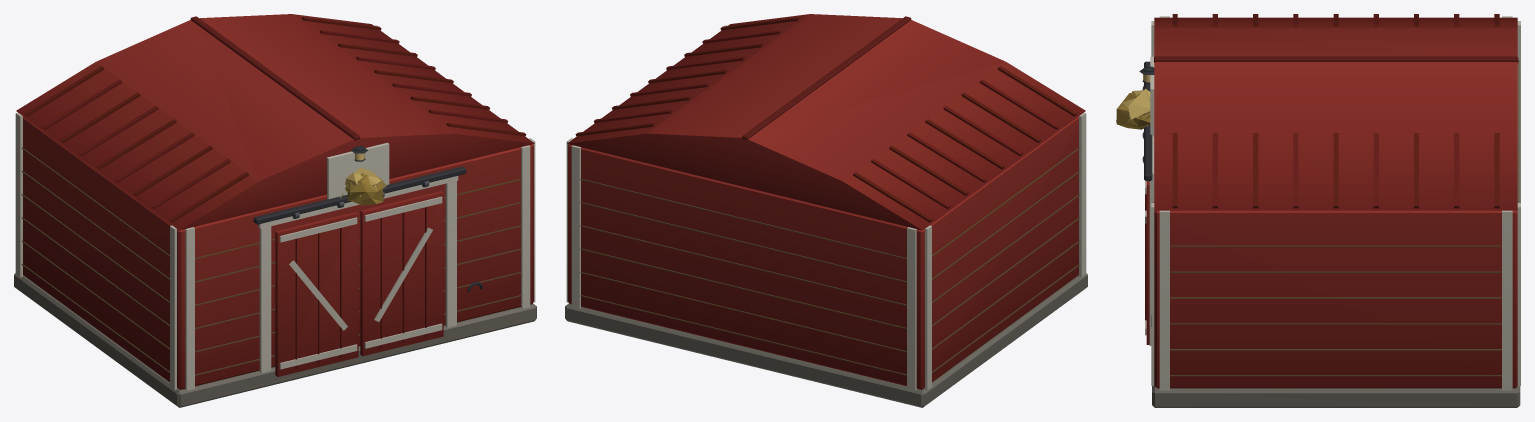
File: big-red-barn.glb
The picture shows the model from 3 angles, left to right: view 1: azimuth 30°, elevation 25°; view 2: azimuth 150°, elevation 25°; view 3: azimuth 270°, elevation 25°; orthographic projection. The views are drawn at different scales.
Parts seen in each view (by area): view 1: big_red_barn; view 2: big_red_barn; view 3: big_red_barn.
Boxes of the visible parts, x1,y1,x2,y2 form: big_red_barn: [14, 14, 536, 407]; big_red_barn: [565, 14, 1087, 407]; big_red_barn: [1116, 14, 1520, 407].
Size of the model in its own units: 8.92 by 5.4 by 7.8.
